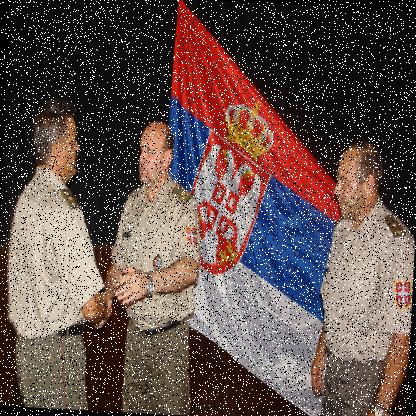rs: (154, 1, 354, 416)
